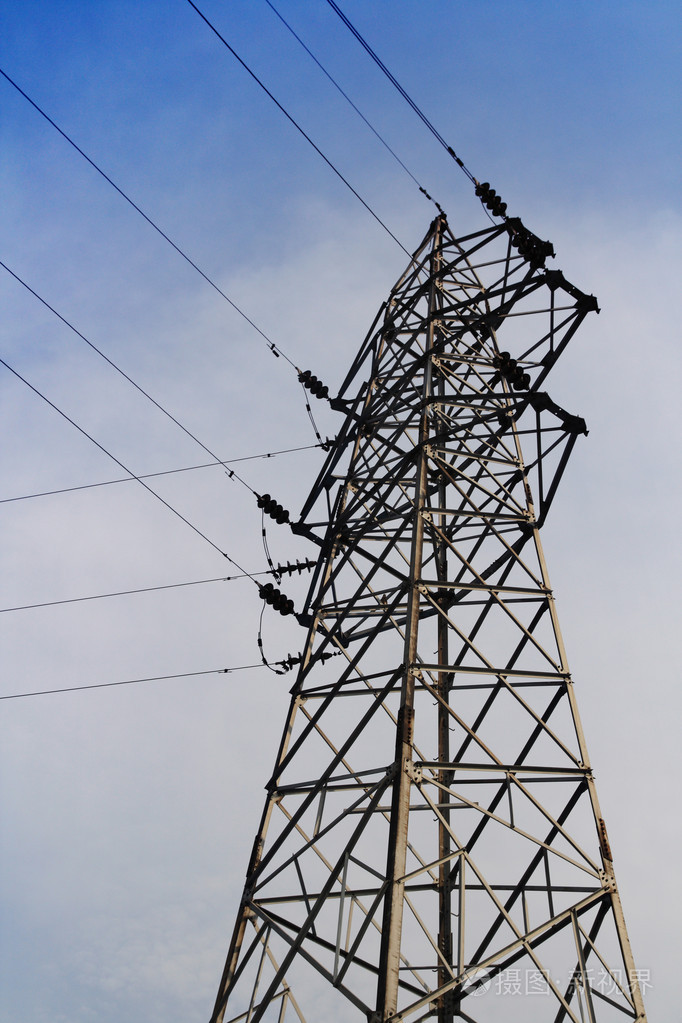insulator: (492, 347, 533, 389), (258, 581, 292, 619), (477, 180, 509, 216), (254, 492, 288, 525), (299, 367, 327, 401), (273, 556, 311, 579)
